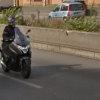Motorcycle: (1, 21, 38, 79)
